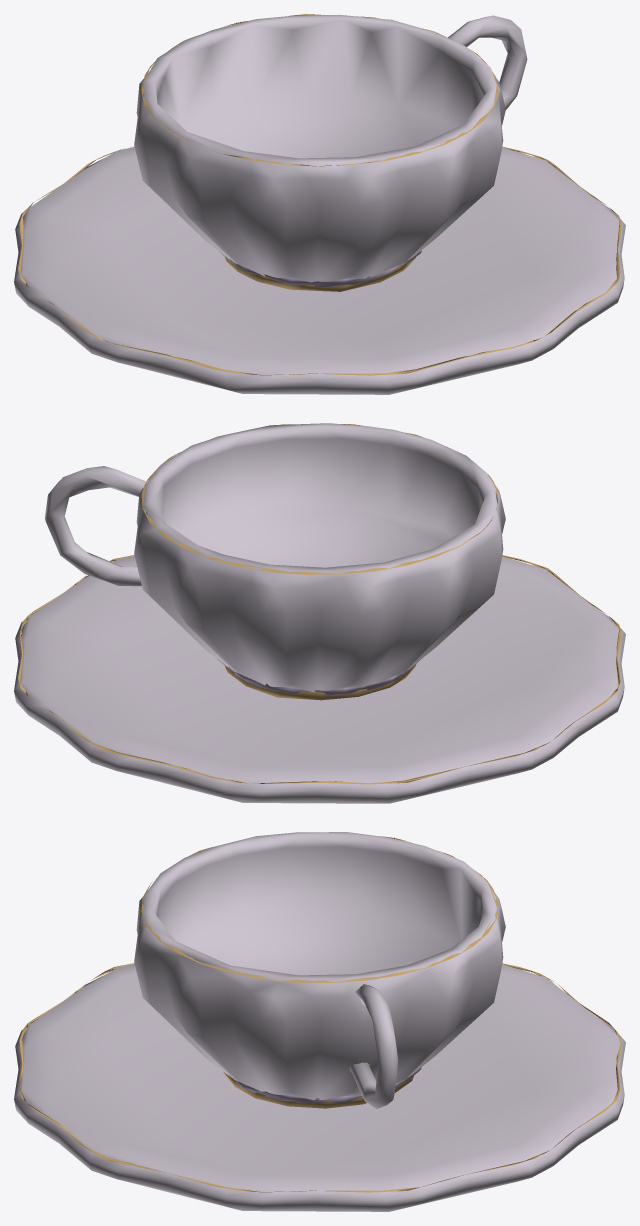
Rendered from kart.body.petal.lod1.glb.
The picture shows the model from 3 angles, top to bottom: view 1: azimuth 30°, elevation 25°; view 2: azimuth 150°, elevation 25°; view 3: azimuth 270°, elevation 25°; orthographic projection.
Visible parts, largest first — view 1: emi_vehicle_petal; view 2: emi_vehicle_petal; view 3: emi_vehicle_petal.
Boxes of the visible parts, bbox=[...] form: emi_vehicle_petal: bbox=[14, 14, 625, 394]; emi_vehicle_petal: bbox=[14, 423, 625, 803]; emi_vehicle_petal: bbox=[14, 832, 625, 1211].
Size of the model in its own units: 0.4798 by 0.1745 by 0.4798.
